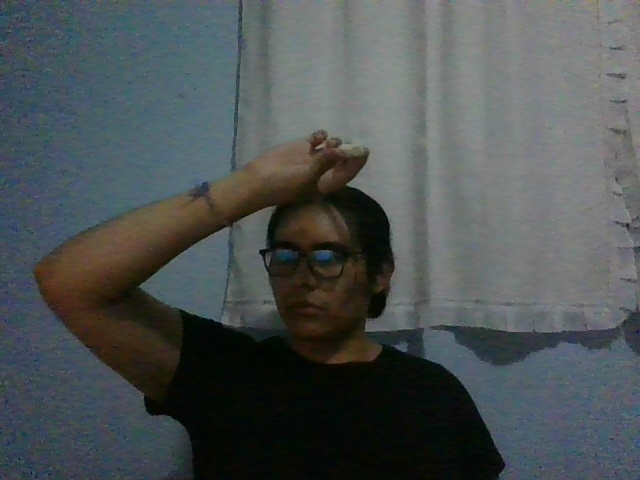goma: (336, 143, 369, 158)
